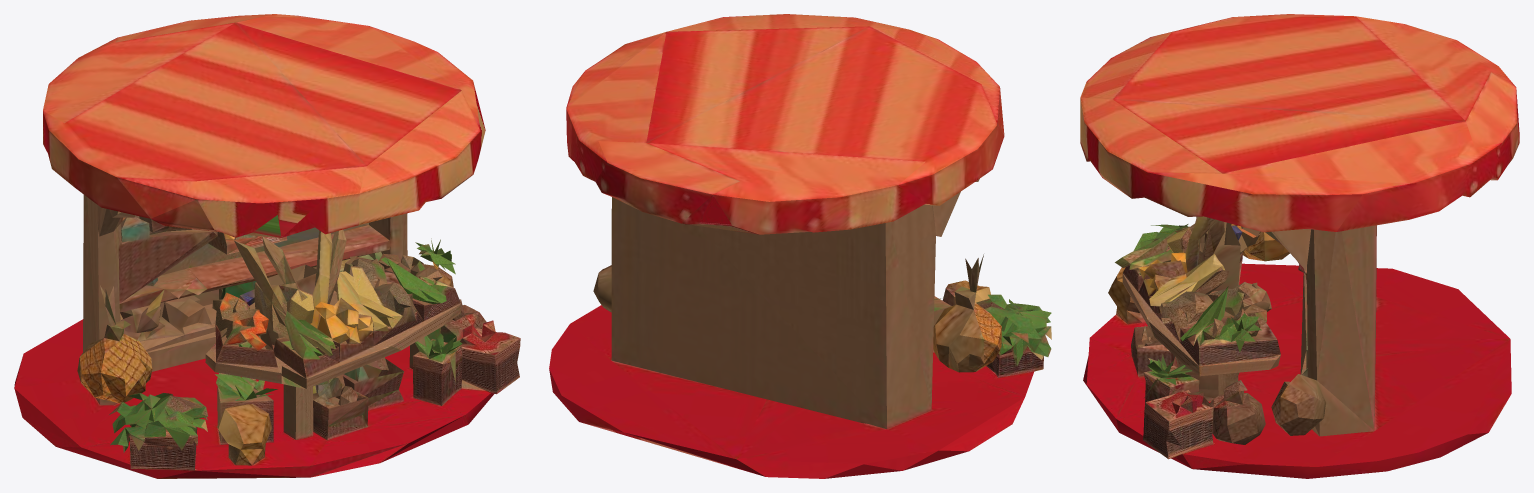
Rendered from market_stall.glb.
The picture shows the model from 3 angles, left to right: view 1: azimuth 30°, elevation 25°; view 2: azimuth 150°, elevation 25°; view 3: azimuth 270°, elevation 25°; orthographic projection.
Size of the model in its own units: 1.9 by 1.22 by 1.7.
1 material, 1 textured.
